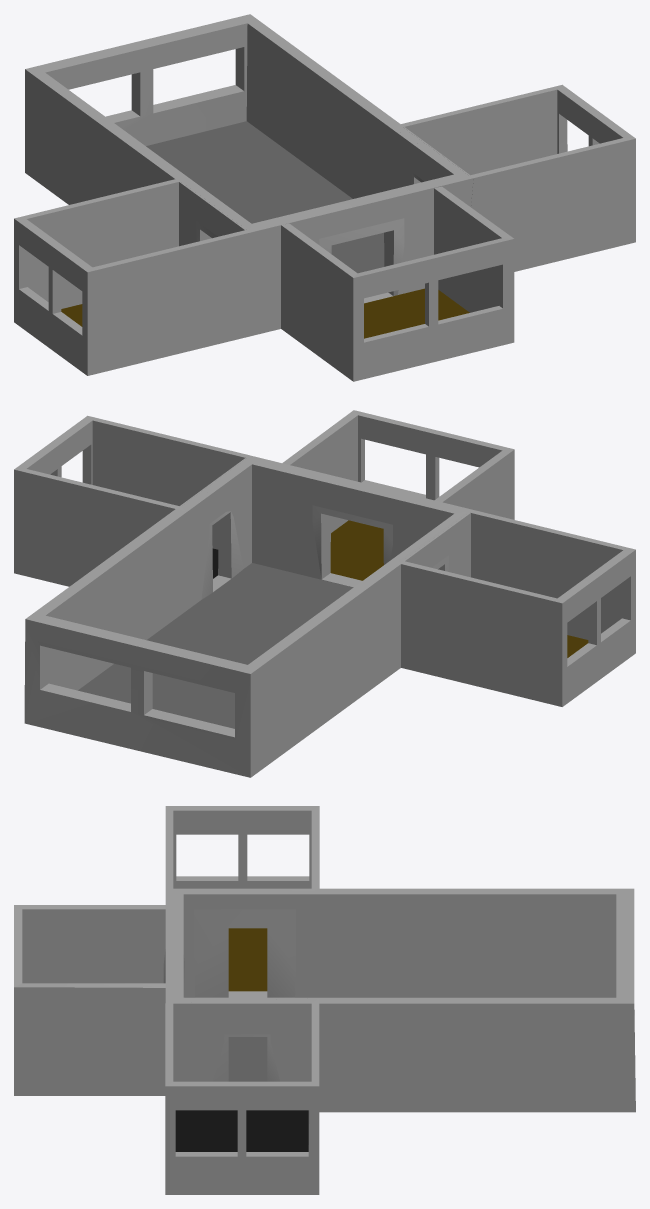
Rendered from betterStructure.fbx.
3 renders of one model, top to bottom at view 1: azimuth 30°, elevation 25°; view 2: azimuth 150°, elevation 25°; view 3: azimuth 270°, elevation 25°, orthographic. The views are drawn at different scales.
Visible parts, largest first — view 1: RoomLayout4; view 2: RoomLayout4; view 3: RoomLayout4.
Part boxes in pixels (<box>): RoomLayout4: <box>14,14,635,381</box>; RoomLayout4: <box>14,410,635,777</box>; RoomLayout4: <box>14,806,635,1194</box>.
Bounding box in the file's own units: 98.02 × 17.74 × 91.96.
